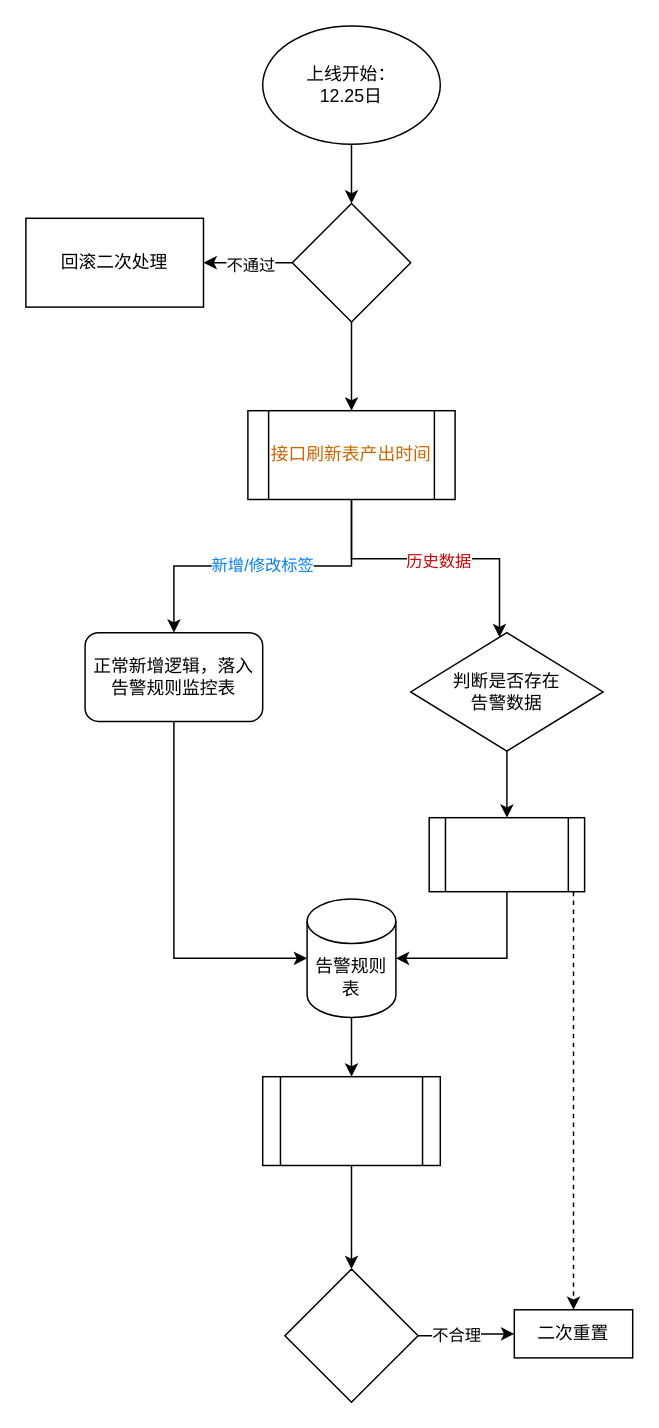
Some shapes in this 659 by 1428 pixel diagram are drawn without their labels. The shapes that lost their labels are listed below. From the top down, each one's centre as x and y in pixels, then its label:
pixel 351 262: 测试回归
pixel 506 854: 规则重置接口
pixel 350 1120: 规则监控任务 （10分钟纬度）
pixel 350 1335: 告警 确认是否合理
